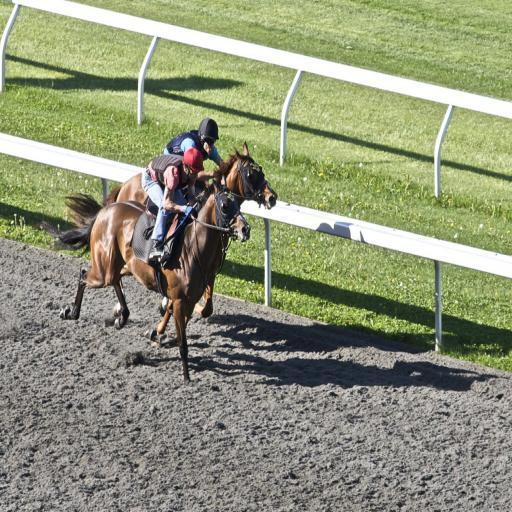horse: (36, 176, 254, 383), (60, 138, 279, 320)
